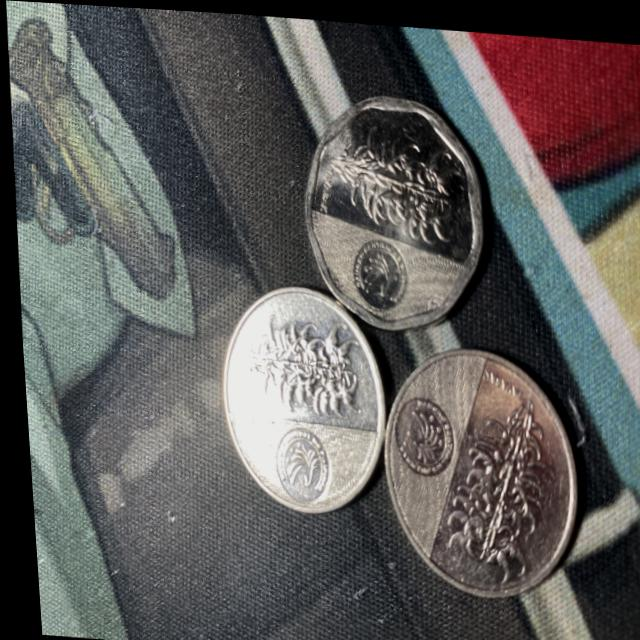5_New_Back: (427, 378, 548, 575), (324, 114, 463, 229), (225, 312, 355, 424)
